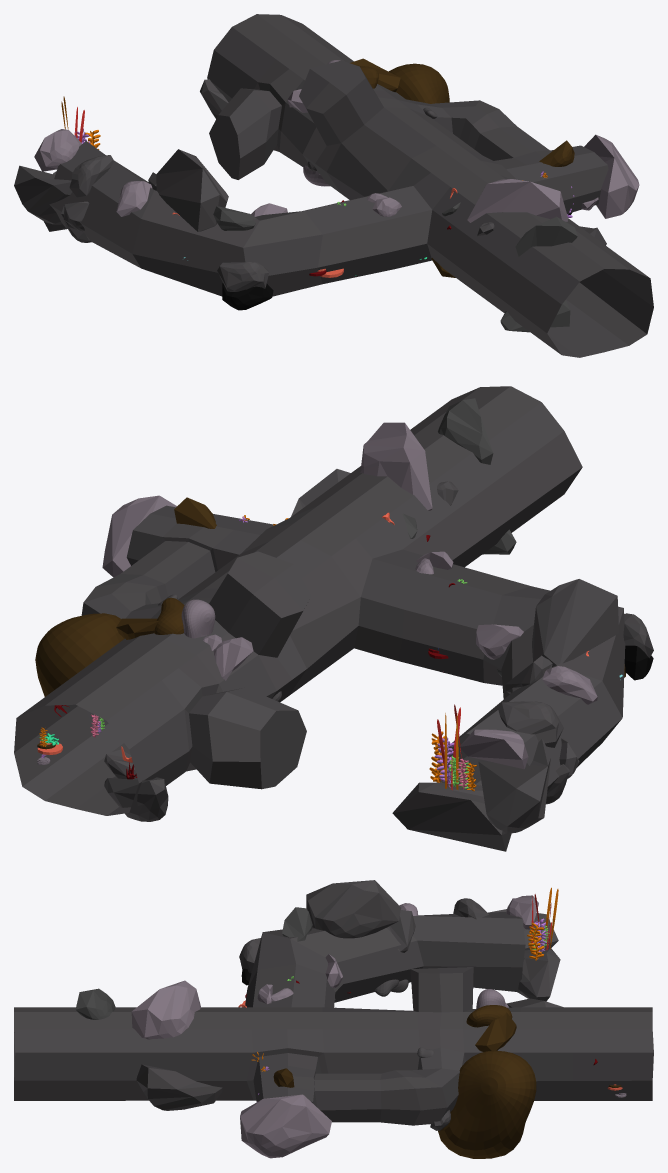
File: GRUTAS.fbx
The picture shows the model from 3 angles, top to bottom: view 1: azimuth 30°, elevation 25°; view 2: azimuth 150°, elevation 25°; view 3: azimuth 270°, elevation 25°; orthographic projection. The views are drawn at different scales.
Visible parts, largest first — view 1: Cylinder, Icosphere.053, Icosphere.010, Icosphere.052, Icosphere.051, Sphere.014, Icosphere.012, Icosphere.050, Icosphere.055, Icosphere.035, Icosphere.037, Icosphere.054 (+6 smaller); view 2: Cylinder, Icosphere.053, Icosphere.049, Icosphere.051, Sphere.014, Icosphere.010, Icosphere.052, Icosphere.012, Icosphere.015, Icosphere.035, Icosphere.050, Icosphere.037 (+10 smaller); view 3: Cylinder, Sphere.014, Icosphere.052, Icosphere.053, Icosphere.010, Icosphere.011, Icosphere.049, Icosphere.012, Icosphere.004, Icosphere.027, Icosphere.038, Icosphere.050 (+5 smaller).
Boxes of the visible parts, box(x1,y1,x2,y2) form: Cylinder: box(49, 14, 653, 357); Icosphere.053: box(156, 149, 228, 231); Icosphere.010: box(467, 179, 568, 222); Icosphere.052: box(584, 134, 639, 218); Icosphere.051: box(14, 165, 72, 224); Sphere.014: box(389, 63, 449, 103); Icosphere.012: box(515, 216, 577, 256); Icosphere.050: box(34, 129, 81, 171); Icosphere.055: box(217, 262, 268, 291); Icosphere.035: box(69, 155, 113, 197); Icosphere.037: box(116, 181, 152, 216); Icosphere.054: box(222, 283, 273, 310); Cylinder: box(14, 386, 625, 815); Icosphere.053: box(532, 579, 618, 666); Icosphere.049: box(392, 782, 511, 851); Icosphere.051: box(478, 739, 550, 833); Sphere.014: box(35, 613, 124, 696); Icosphere.010: box(360, 422, 432, 510); Icosphere.052: box(102, 495, 176, 577); Icosphere.012: box(438, 398, 493, 464); Icosphere.015: box(104, 776, 168, 821); Icosphere.035: box(496, 701, 563, 747); Icosphere.050: box(459, 729, 528, 769); Icosphere.037: box(542, 666, 597, 704); Cylinder: box(14, 912, 653, 1125); Sphere.014: box(438, 1050, 536, 1158); Icosphere.052: box(240, 1094, 331, 1158); Icosphere.053: box(306, 880, 401, 938); Icosphere.010: box(131, 980, 200, 1039); Icosphere.011: box(136, 1064, 222, 1110); Icosphere.049: box(517, 946, 560, 1001); Icosphere.012: box(75, 988, 115, 1019); Icosphere.004: box(475, 1012, 516, 1051); Icosphere.027: box(282, 907, 312, 941); Icosphere.038: box(387, 910, 415, 952); Icosphere.050: box(506, 895, 538, 929).
Bounding box in the file's own units: 47807 × 16518 × 60382.
